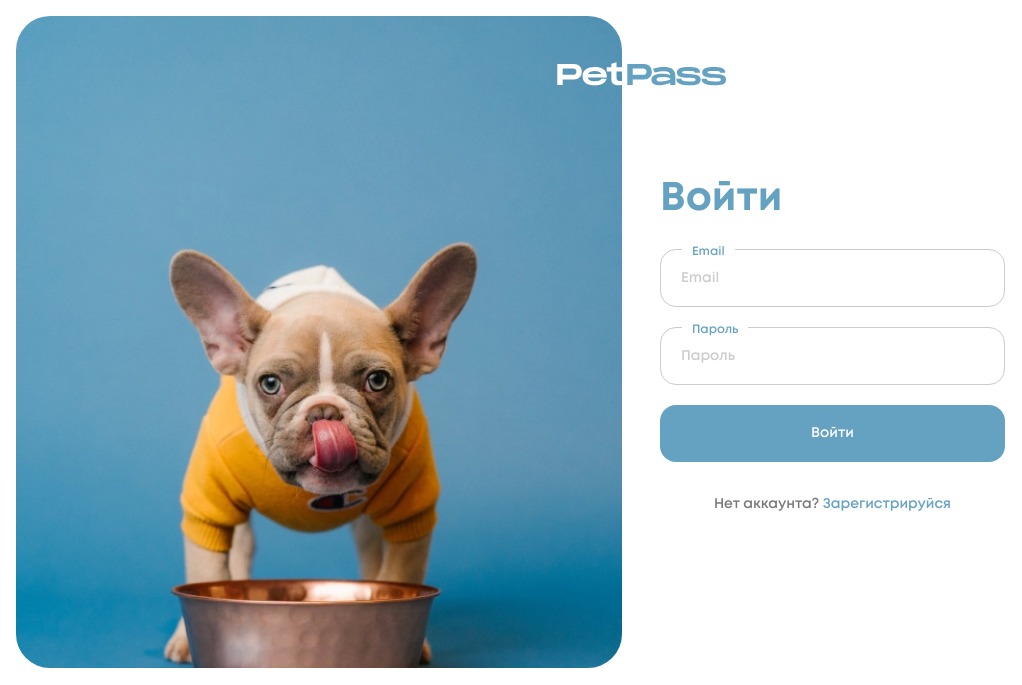
Login page › login-2: Server error
Step 1. Type "server@mail.ru" into the field with placeholder "Email" → x=833, y=278, box [660, 249, 1005, 307]
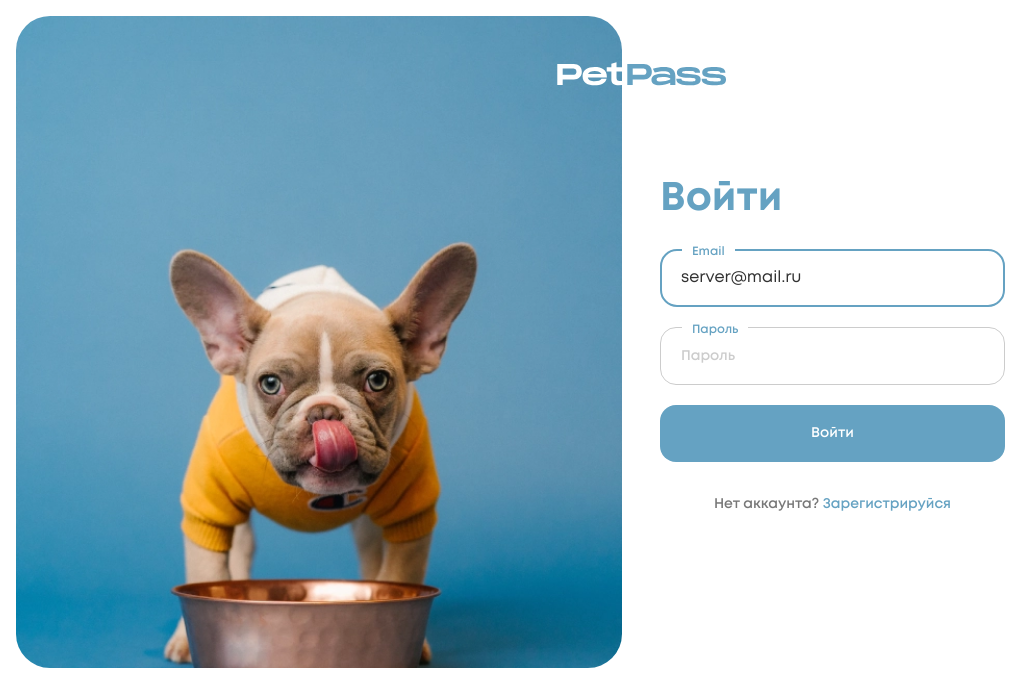
Step 2. Type "password" into the password field with placeholder "Пароль" → x=833, y=356, box [660, 327, 1005, 385]
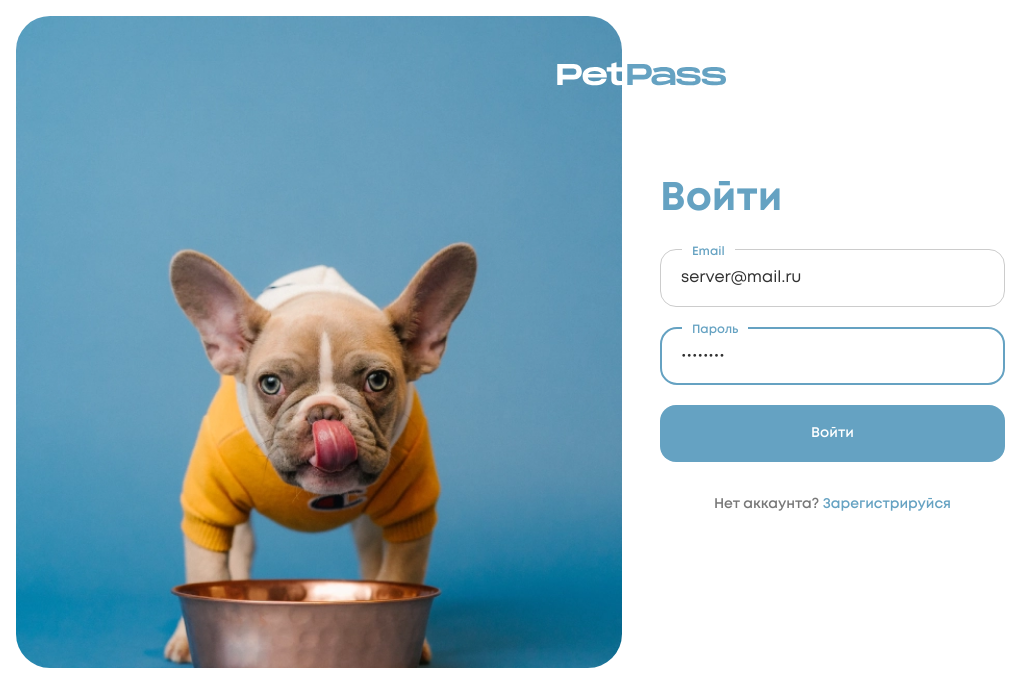
Step 3. Click the button "Войти" → x=833, y=434, box [660, 405, 1005, 462]
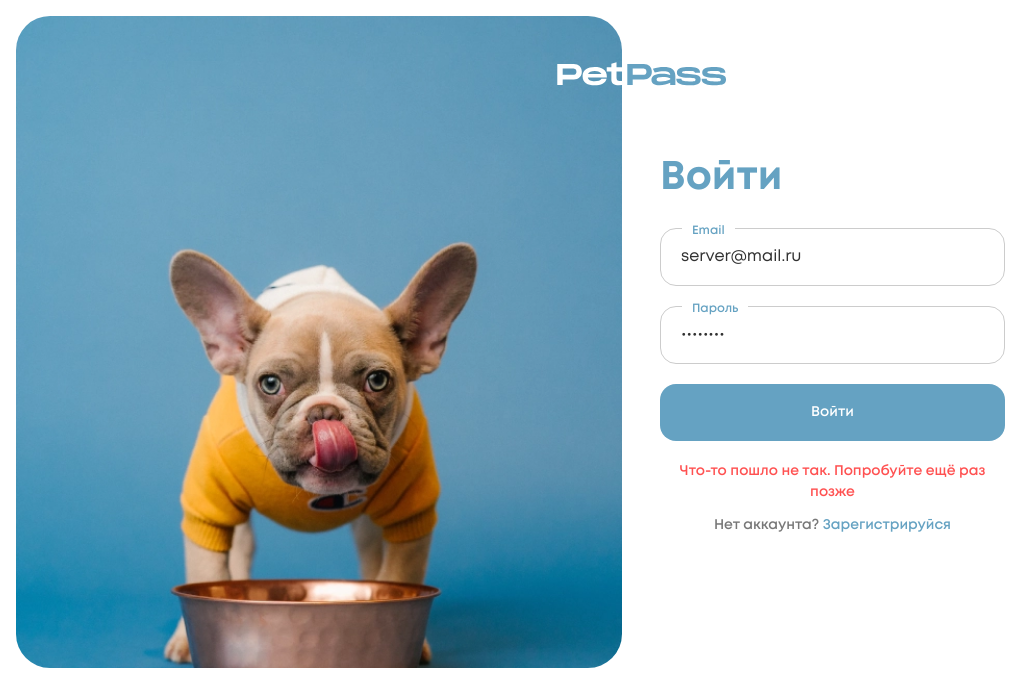
Expected: the message "Что-то пошло не так. Попробуйте ещё раз позже" is shown, [660, 461, 1005, 503]
